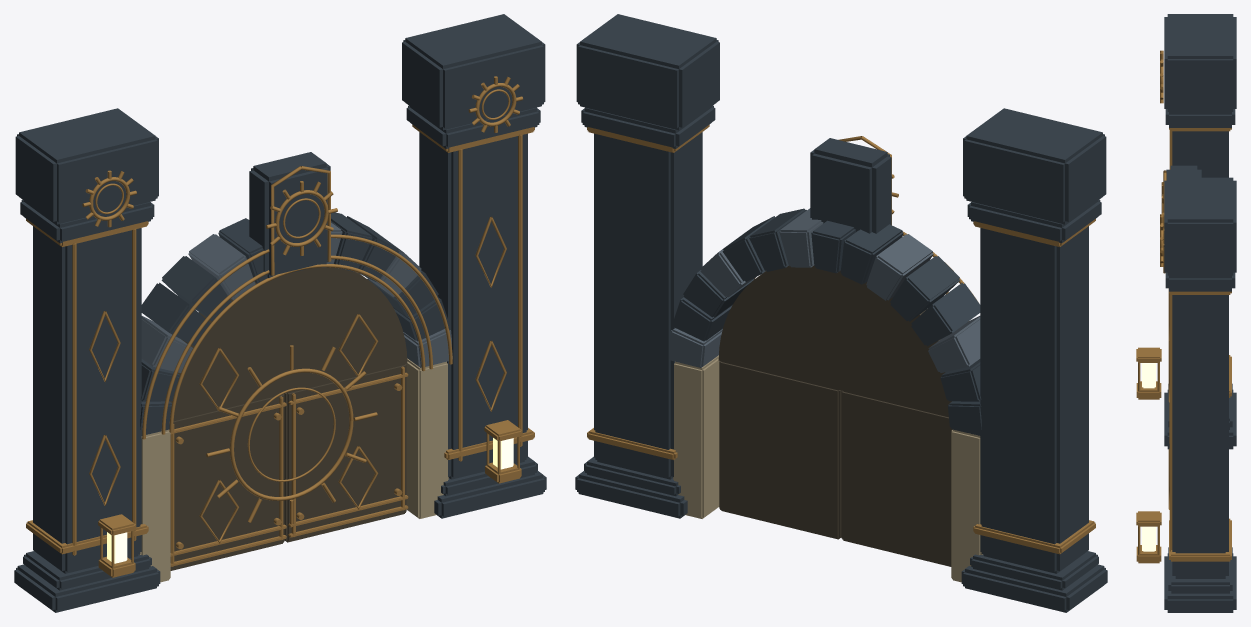
File: fire-portal-v01.glb
The picture shows the model from 3 angles, left to right: view 1: azimuth 30°, elevation 25°; view 2: azimuth 150°, elevation 25°; view 3: azimuth 270°, elevation 25°; orthographic projection. The views are drawn at different scales.
Visible parts, largest first — view 1: Batch Basalt • charcoal, Batch Bronze • aged recess, Batch Bronze • forged warm, Batch Ash stone • warm trim, Batch Basalt • blue grey bevels, Batch Lamp • amber glass; view 2: Batch Basalt • charcoal, Batch Bronze • aged recess, Batch Ash stone • warm trim, Batch Basalt • blue grey bevels, Batch Bronze • forged warm; view 3: Batch Basalt • charcoal, Batch Bronze • forged warm, Batch Lamp • amber glass.
Part boxes in pixels (<box>): Batch Basalt • charcoal: <box>14,14,546,612</box>; Batch Bronze • aged recess: <box>170,267,407,570</box>; Batch Bronze • forged warm: <box>26,76,534,577</box>; Batch Ash stone • warm trim: <box>139,358,448,582</box>; Batch Basalt • blue grey bevels: <box>141,222,452,372</box>; Batch Lamp • amber glass: <box>107,438,513,563</box>; Batch Basalt • charcoal: <box>575,14,1107,612</box>; Batch Bronze • aged recess: <box>718,265,952,566</box>; Batch Ash stone • warm trim: <box>673,355,982,582</box>; Batch Basalt • blue grey bevels: <box>669,208,980,372</box>; Batch Bronze • forged warm: <box>587,124,1095,554</box>; Batch Basalt • charcoal: <box>1164,14,1236,612</box>; Batch Bronze • forged warm: <box>1136,50,1231,563</box>; Batch Lamp • amber glass: <box>1142,363,1155,551</box>.
Bounding box in the file's own units: 9.6 × 8.4 × 1.95.
